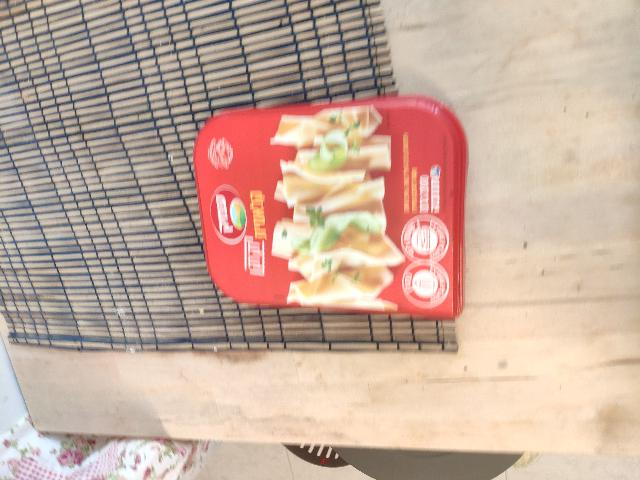cheese: (196, 118, 477, 303)
